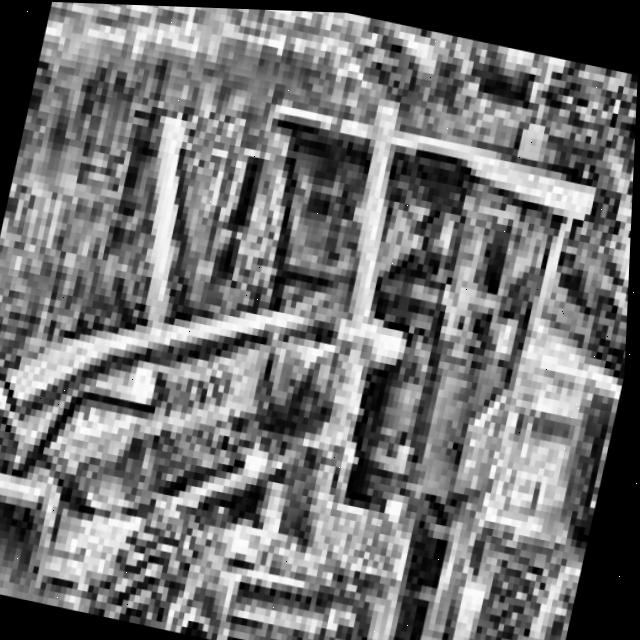buldozerpayloadergrader: (0, 3, 640, 640)
